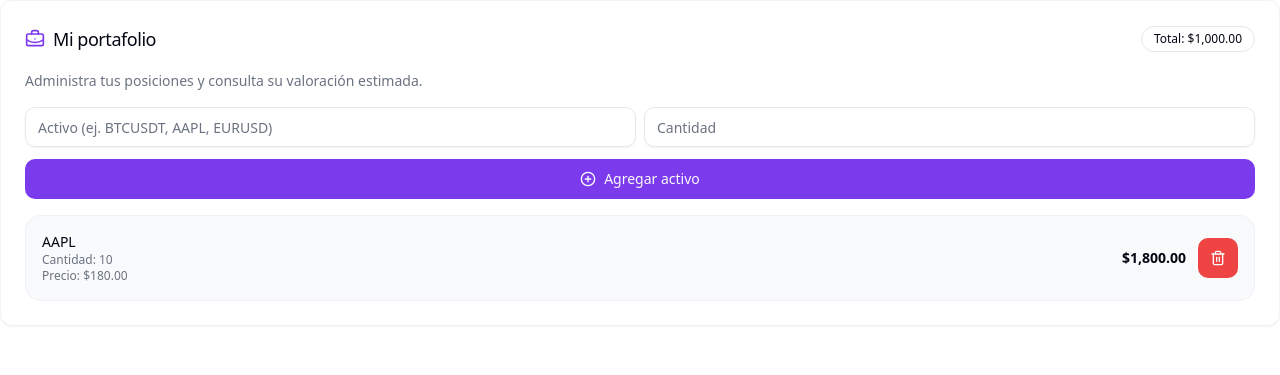
it: PortfolioPanel › informa un error cuando eliminar un activo falla
The image size is (1280, 375).
Click the button named "eliminar aapl".
click(1218, 258)  # box [1198,238,1238,278]
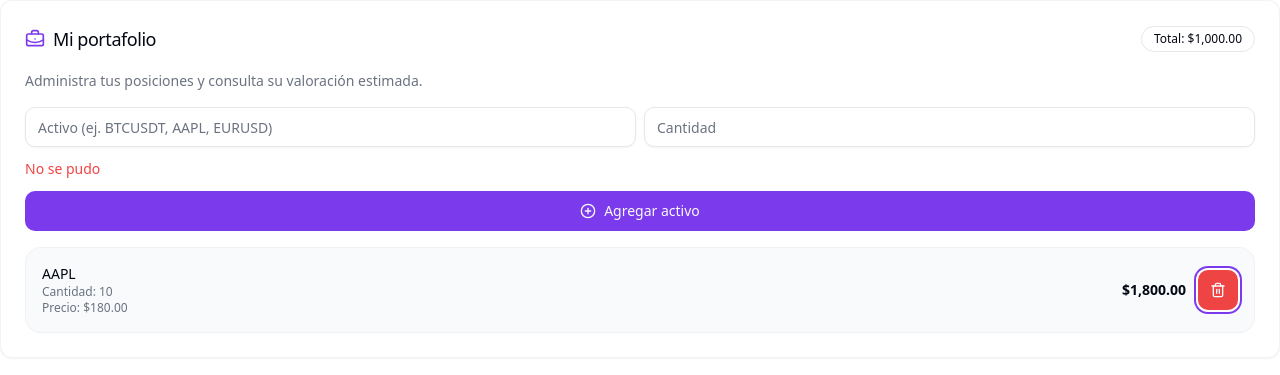
Now the text "No se pudo" is shown, box [25,159,100,178]
